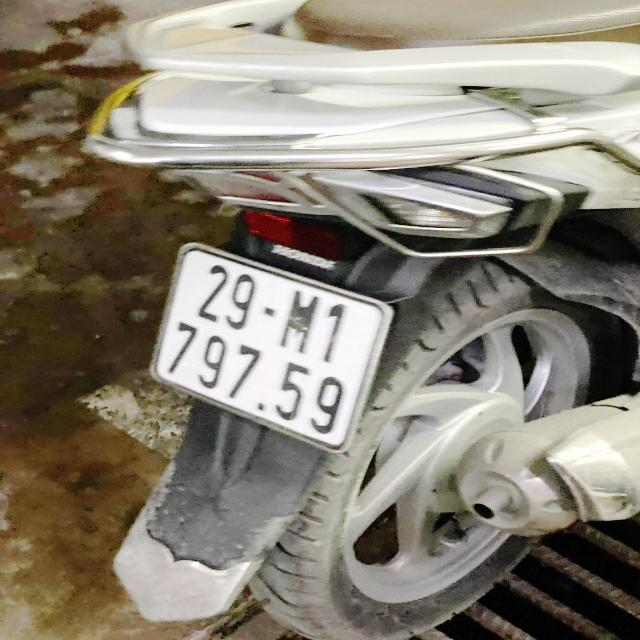license_plate: (153, 247, 393, 457)
